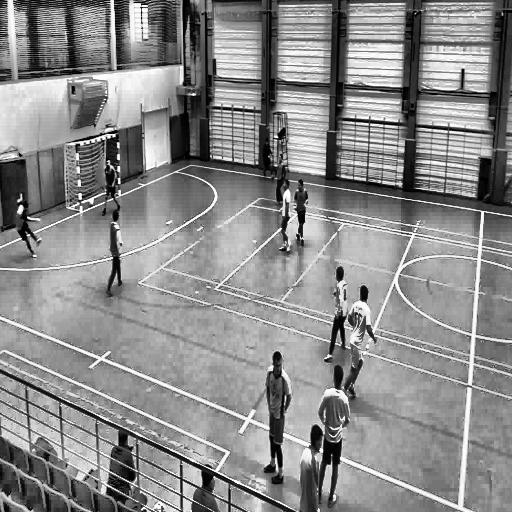ball: (87, 194, 95, 210)
player: (315, 361, 351, 509), (260, 345, 292, 490), (339, 284, 377, 402), (105, 423, 147, 499), (322, 264, 350, 368), (297, 422, 327, 512), (14, 190, 42, 267), (104, 208, 126, 300), (189, 463, 226, 512), (100, 158, 123, 218), (278, 178, 291, 259), (294, 178, 308, 249), (272, 152, 286, 209), (260, 136, 275, 182)
